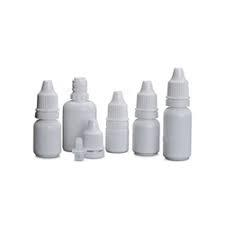Container for household chemicals: (23, 68, 207, 175)
